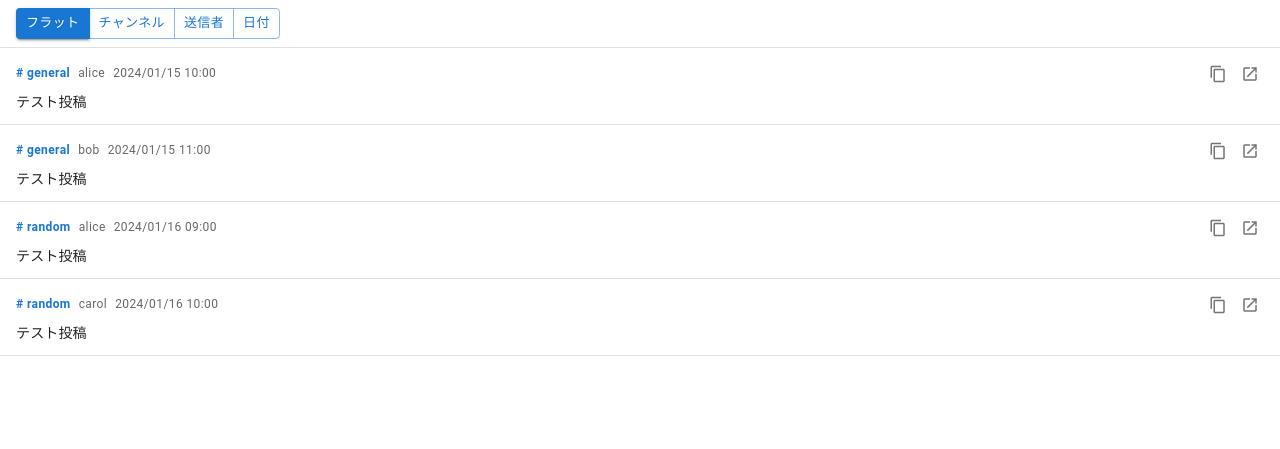
検索結果グルーピング › チャンネル別グルーピング › チャンネル別選択時、各チャンネルのヘッダーが表示される
The width and height of the screenshot is (1280, 449).
Click the button "チャンネル" at point(132, 23), box [88, 8, 175, 39]
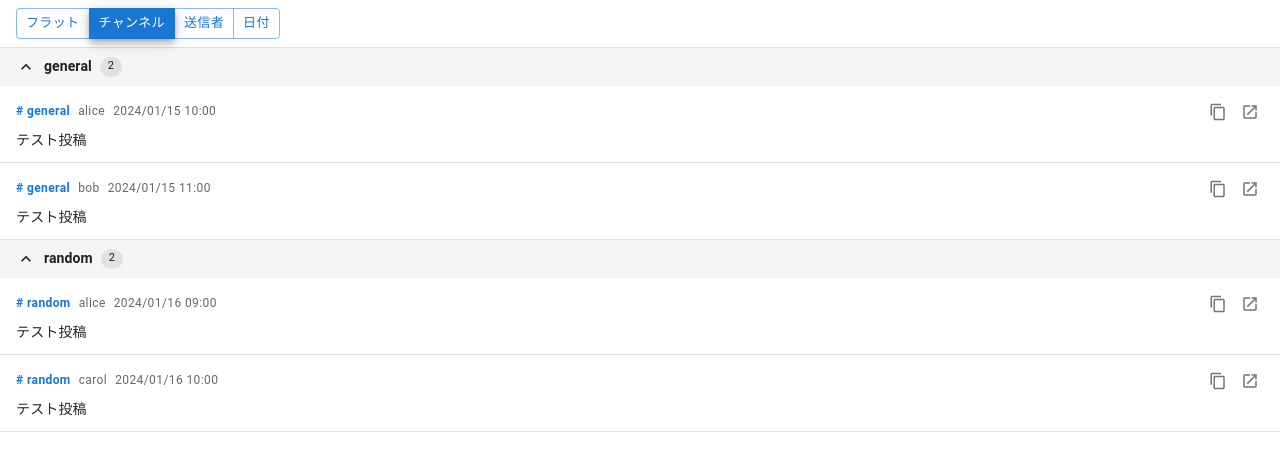
expect the number of elements with test id "group-header" is 2: met, box [0, 48, 1279, 86]; [0, 240, 1279, 278]
